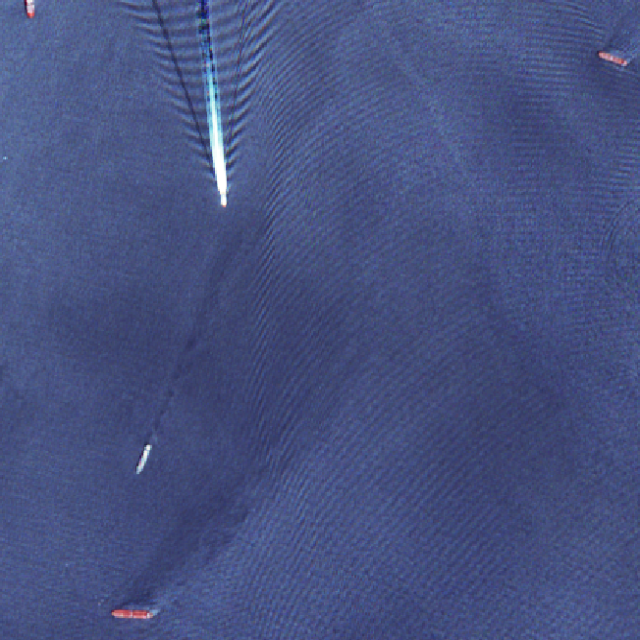wake: (144, 5, 284, 223)
